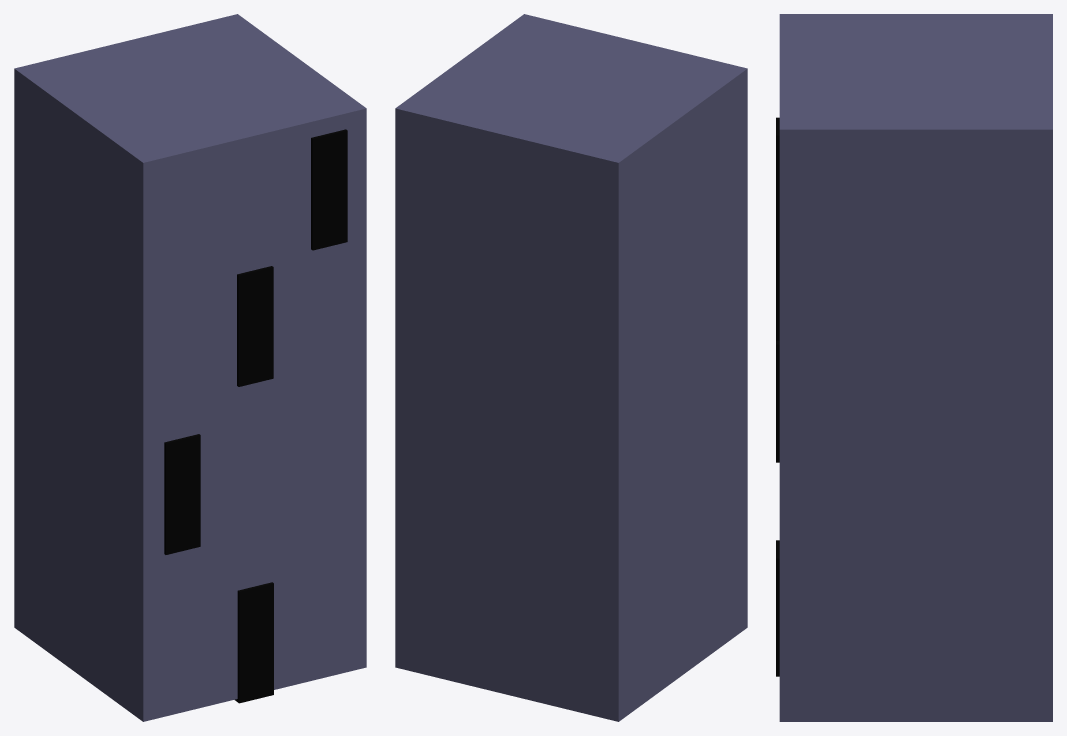
File: house2maya.fbx
3 renders of one model, left to right at view 1: azimuth 30°, elevation 25°; view 2: azimuth 150°, elevation 25°; view 3: azimuth 270°, elevation 25°, orthographic. The views are drawn at different scales.
Visible parts, largest first — view 1: pCube1, pCube2, pCube5, pCube3, pCube4; view 2: pCube1; view 3: pCube1, pCube2, pCube5, pCube3.
Boxes of the visible parts, bbox=[...] form: pCube1: bbox=[14, 14, 366, 721]; pCube2: bbox=[234, 582, 273, 703]; pCube5: bbox=[311, 129, 347, 250]; pCube3: bbox=[164, 434, 200, 554]; pCube4: bbox=[237, 266, 273, 386]; pCube1: bbox=[395, 14, 747, 721]; pCube1: bbox=[779, 14, 1052, 721]; pCube2: bbox=[776, 540, 779, 676]; pCube5: bbox=[776, 117, 779, 253]; pCube3: bbox=[776, 341, 779, 462].
Size of the model in its own units: 6.4 by 15.39 by 6.48.
